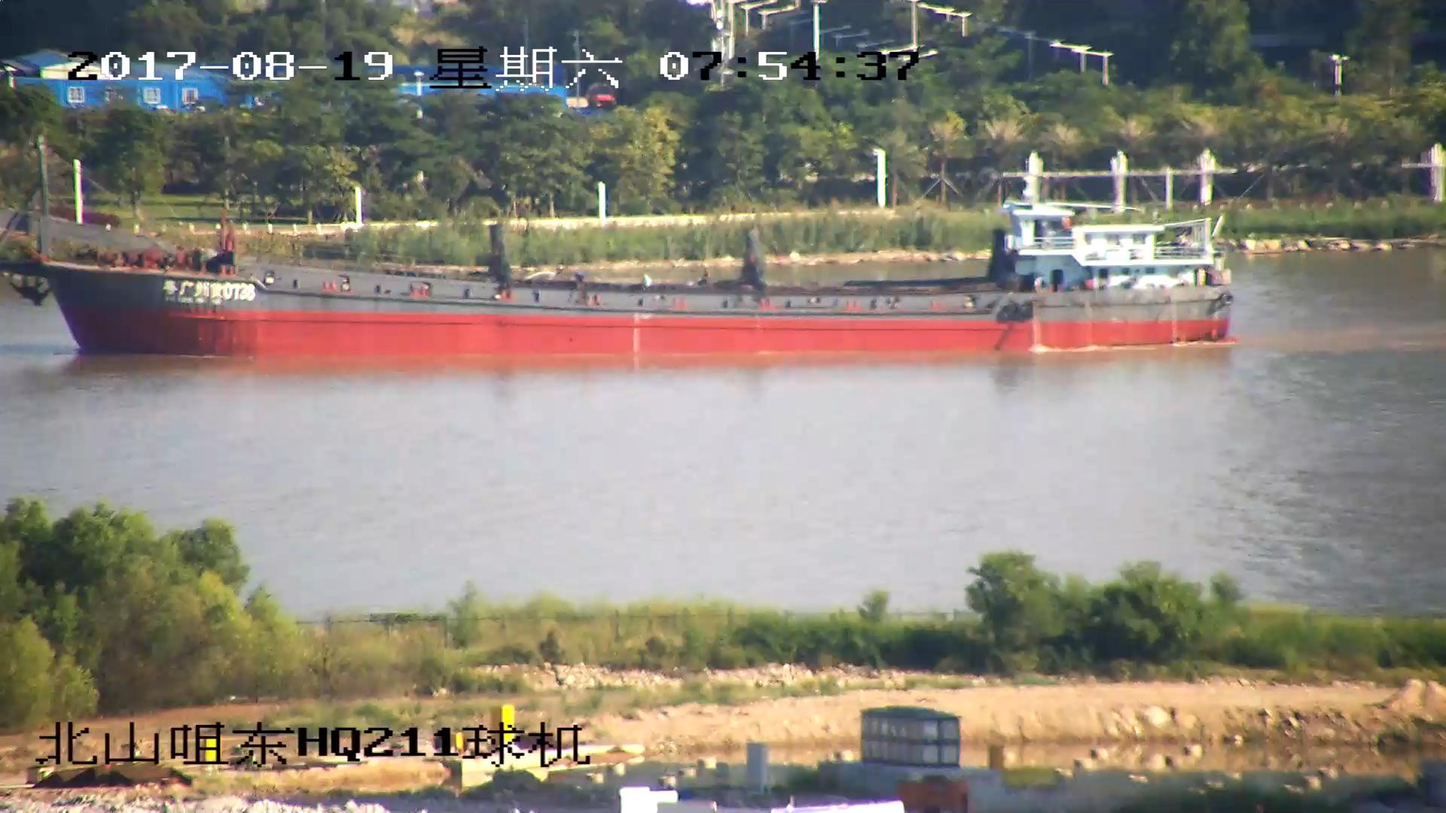bulk cargo carrier: (0, 143, 1232, 358)
